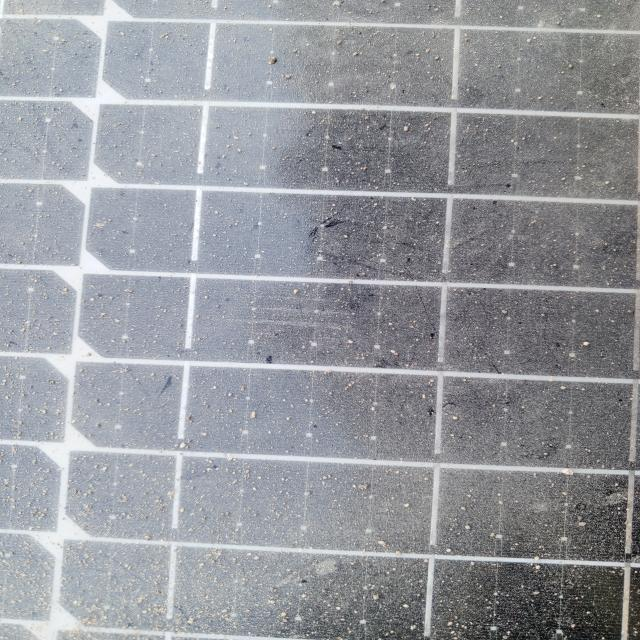Anomaly Solar Panel: (29, 15, 585, 598)
Surface Contaminant: (29, 15, 585, 598)
